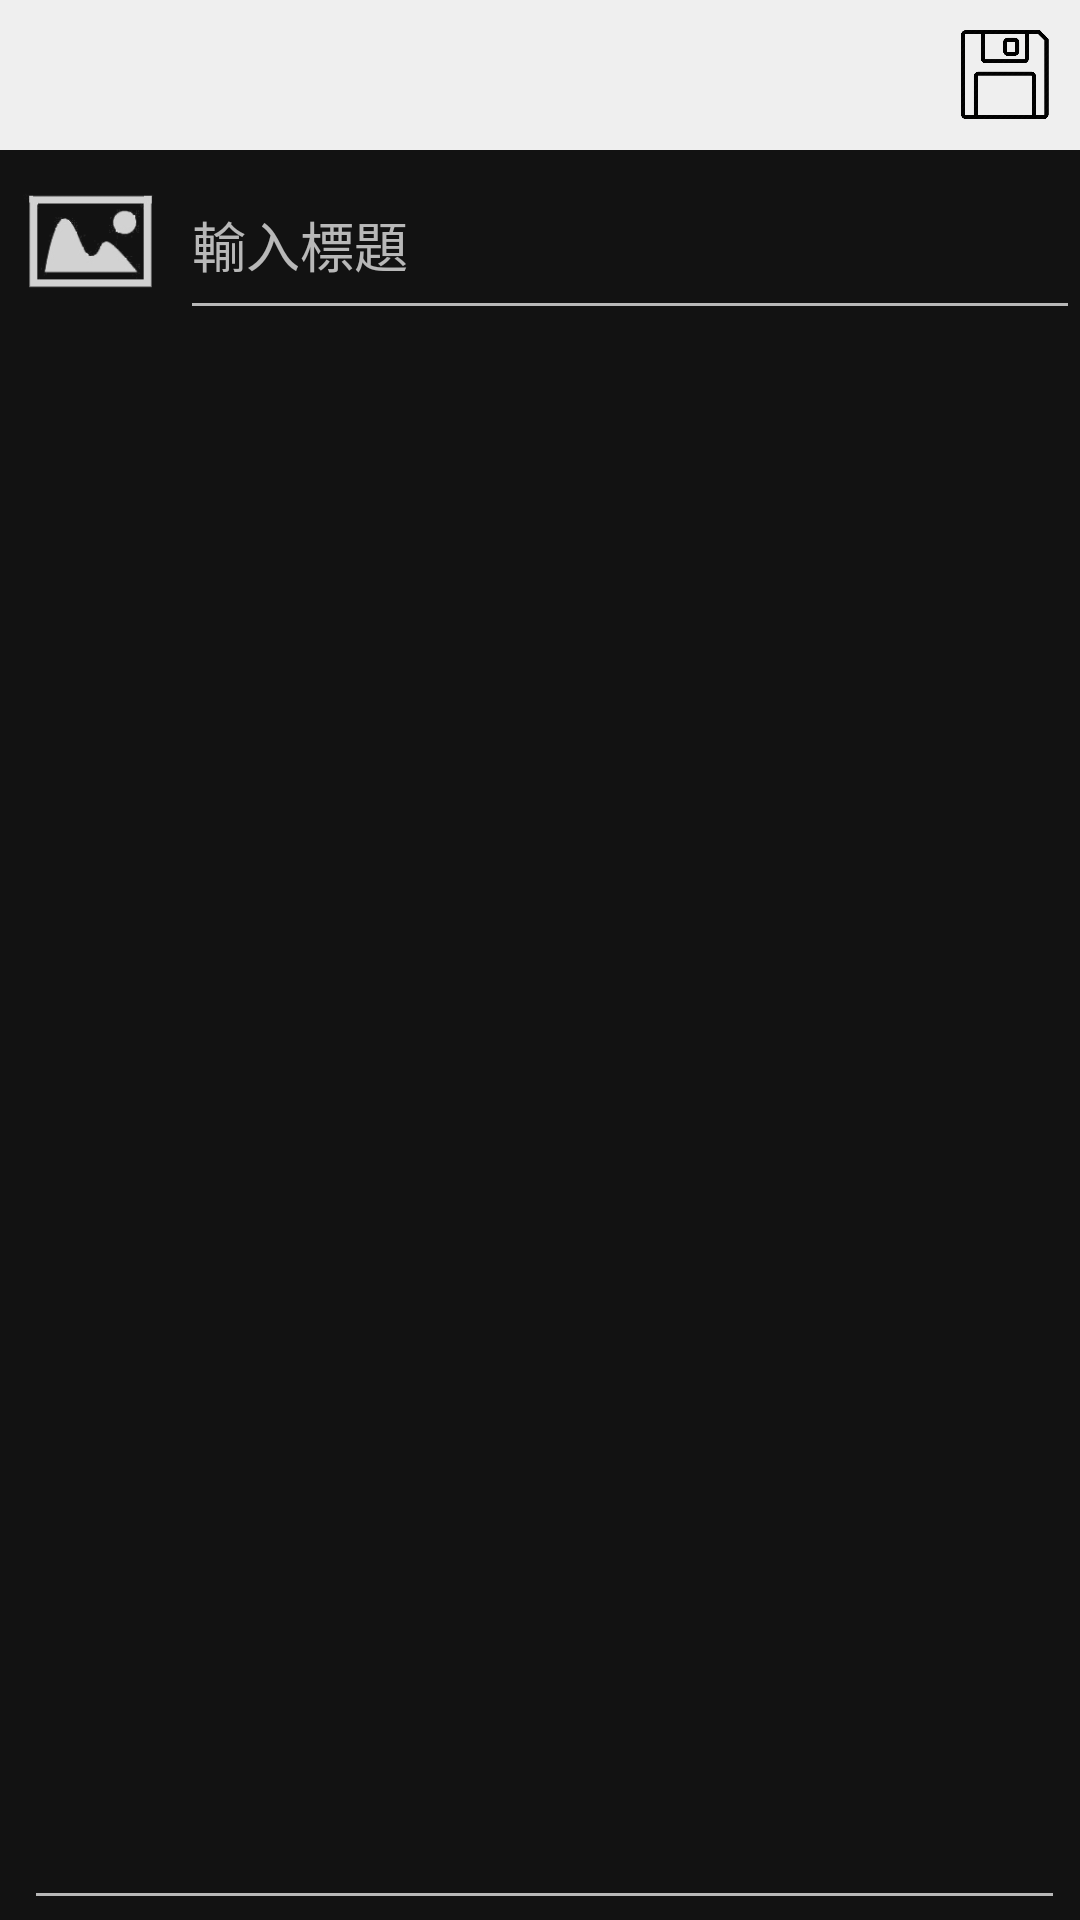

Icons on this 1080px×1920px Android screen, each with the point to tap as [x,y]:
save: [1005,74]
